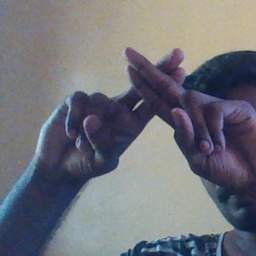F: (97, 35, 213, 148)
